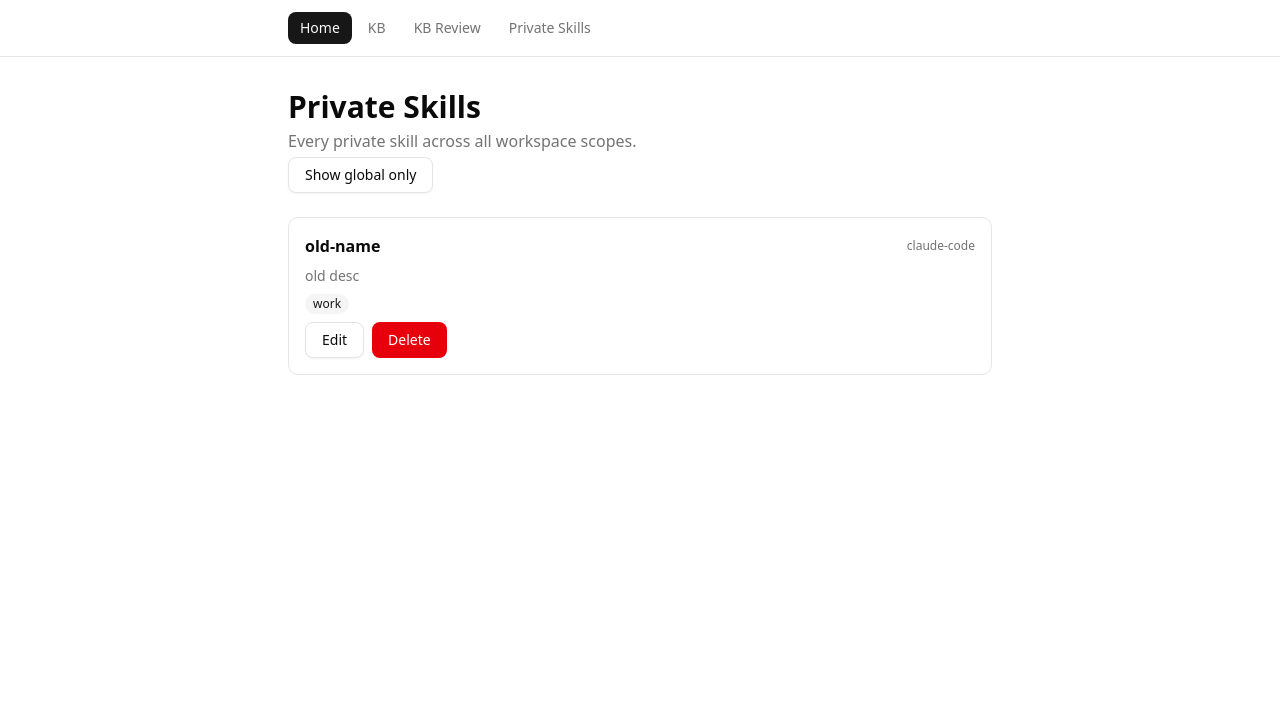
it: Private Skills browse page › reflects a skill's new title, description, and scopes on the card immediately after saving
Click the button "Edit" at point(335, 340), box [305,322,364,358]
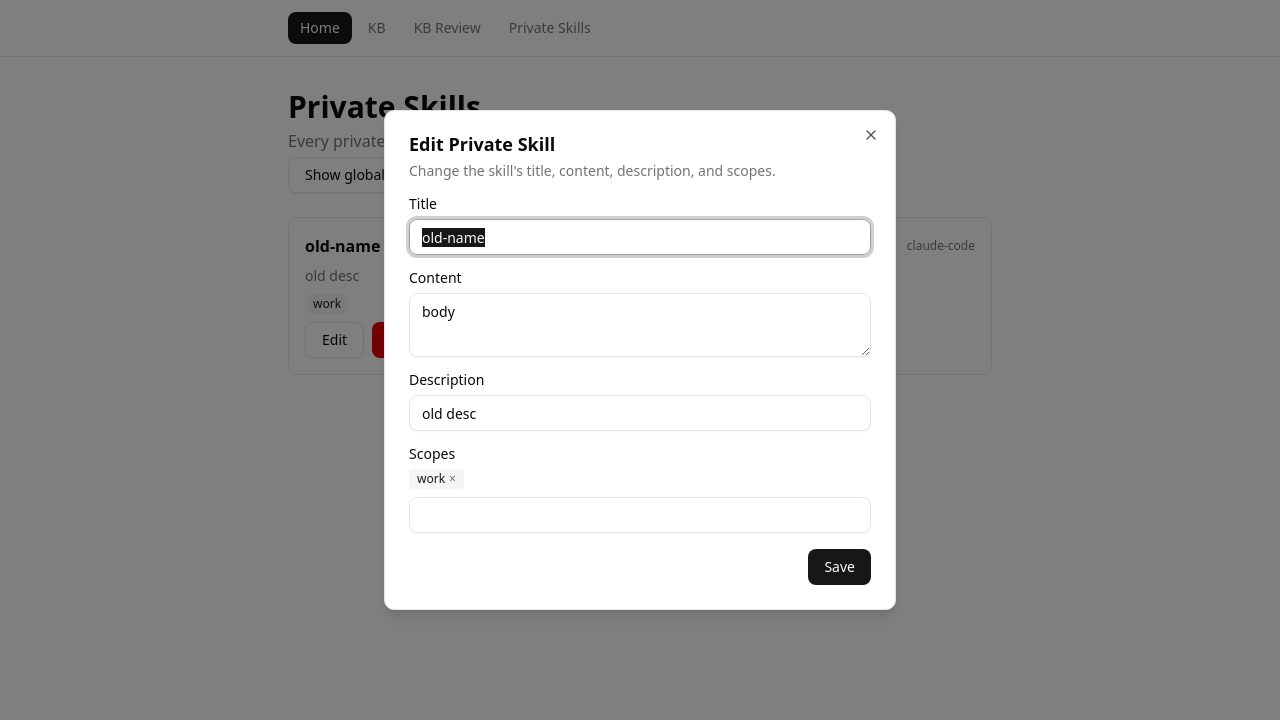
Replace the text in the field labelled "Title" with "new-name" at point(640, 237), box [409,219,871,255]
Replace the text in the field labelled "Description" with "new desc" at point(640, 413), box [409,395,871,431]
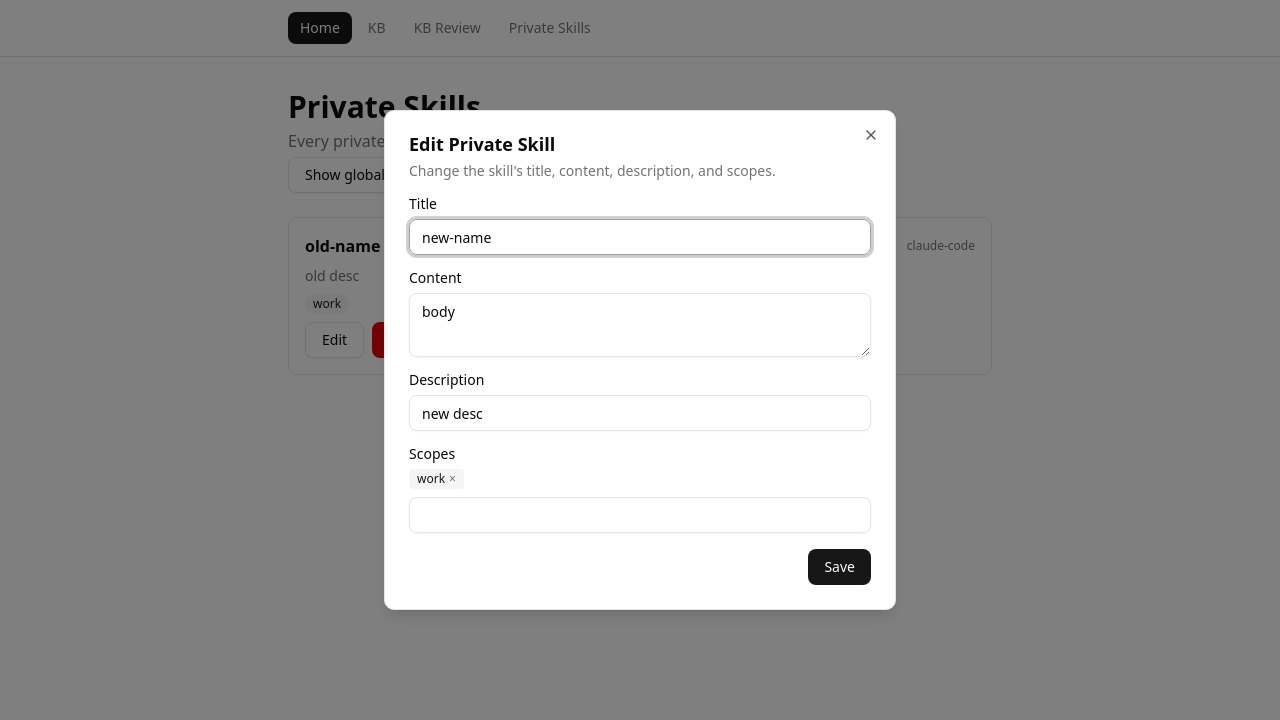
Type "client-x" into the field labelled "Scopes" at point(640, 515), box [409,497,871,533]
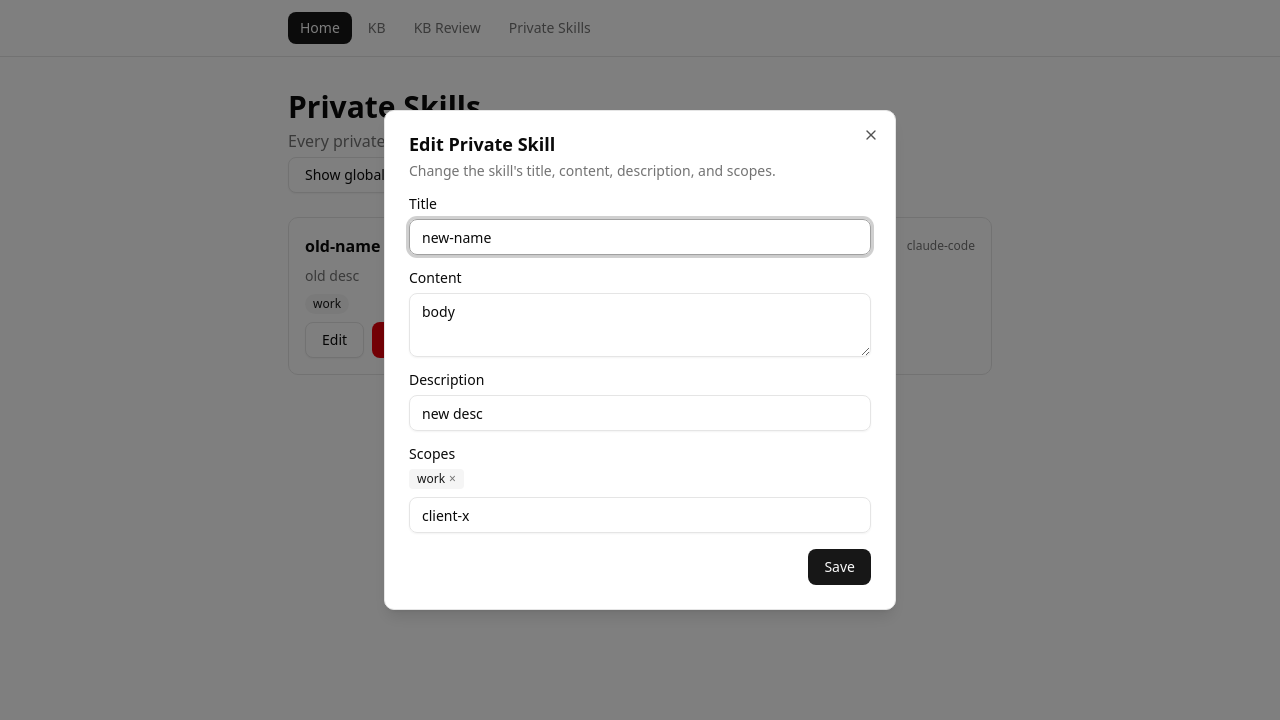
Press Enter in the field labelled "Scopes", box [409,497,871,533]
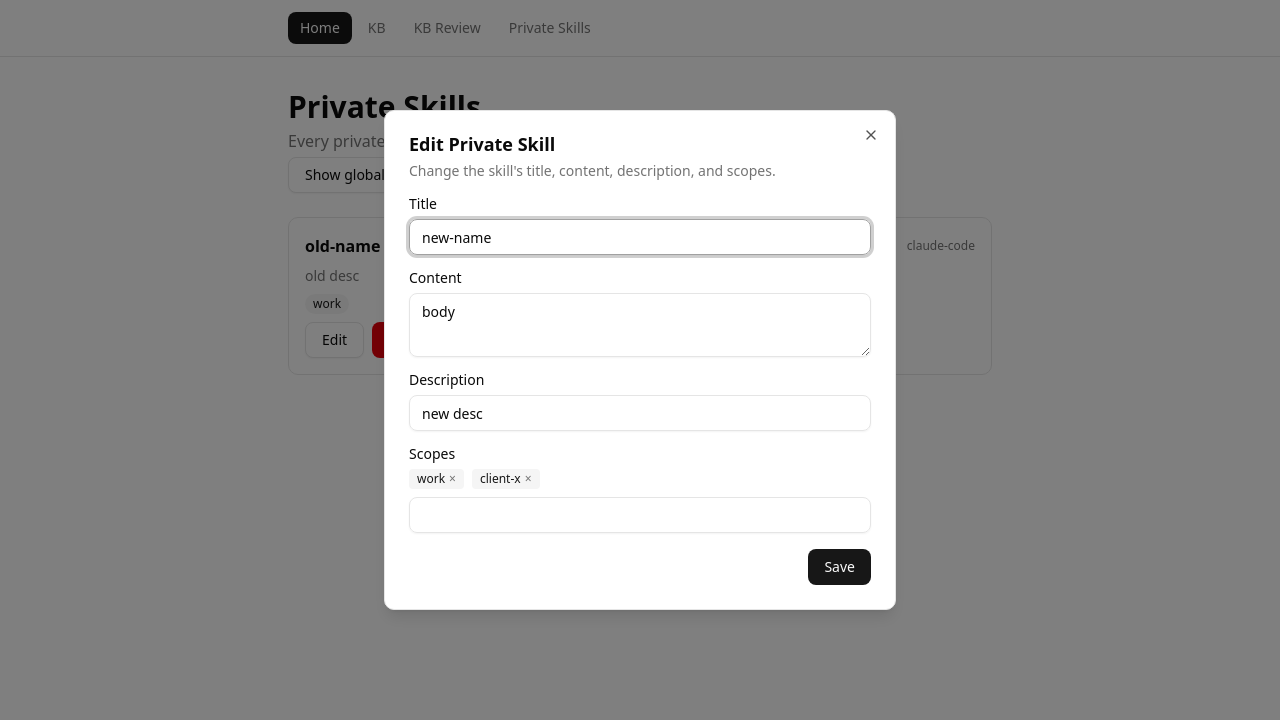
Click the button named "Remove work" at point(453, 479), box [449,471,456,487]
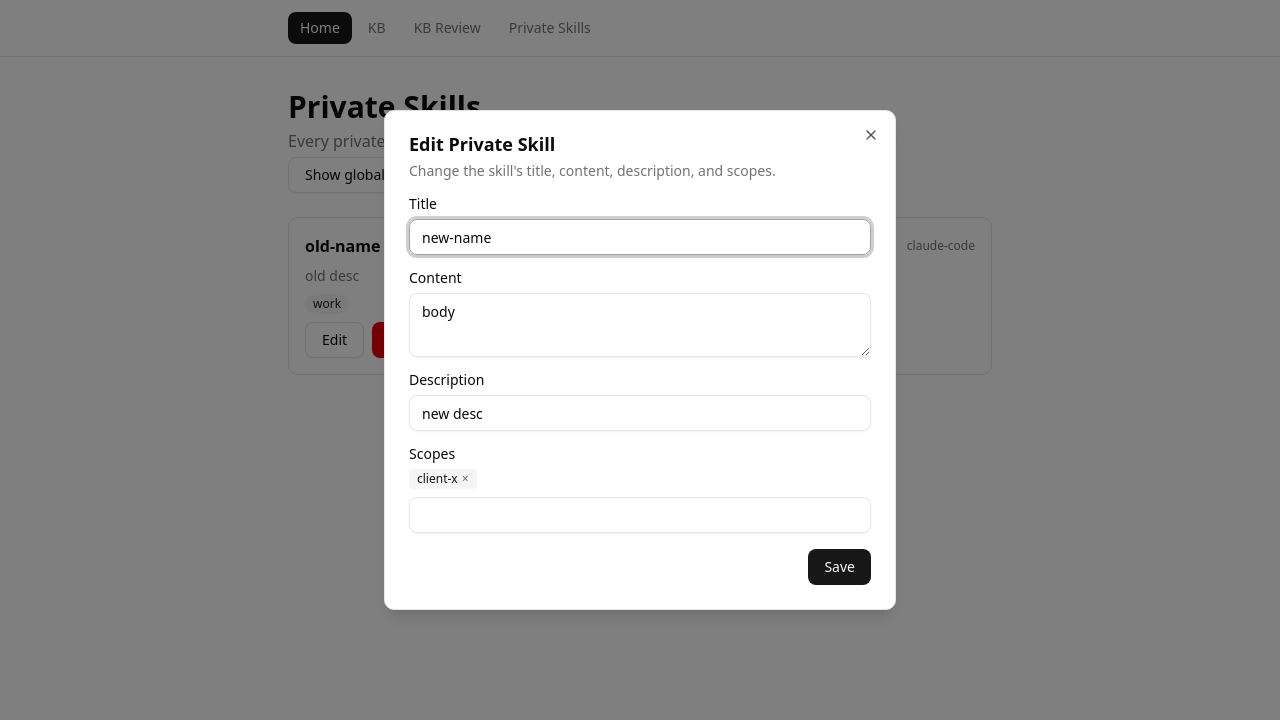
Click the button "Save" at point(840, 567), box [808,549,871,585]
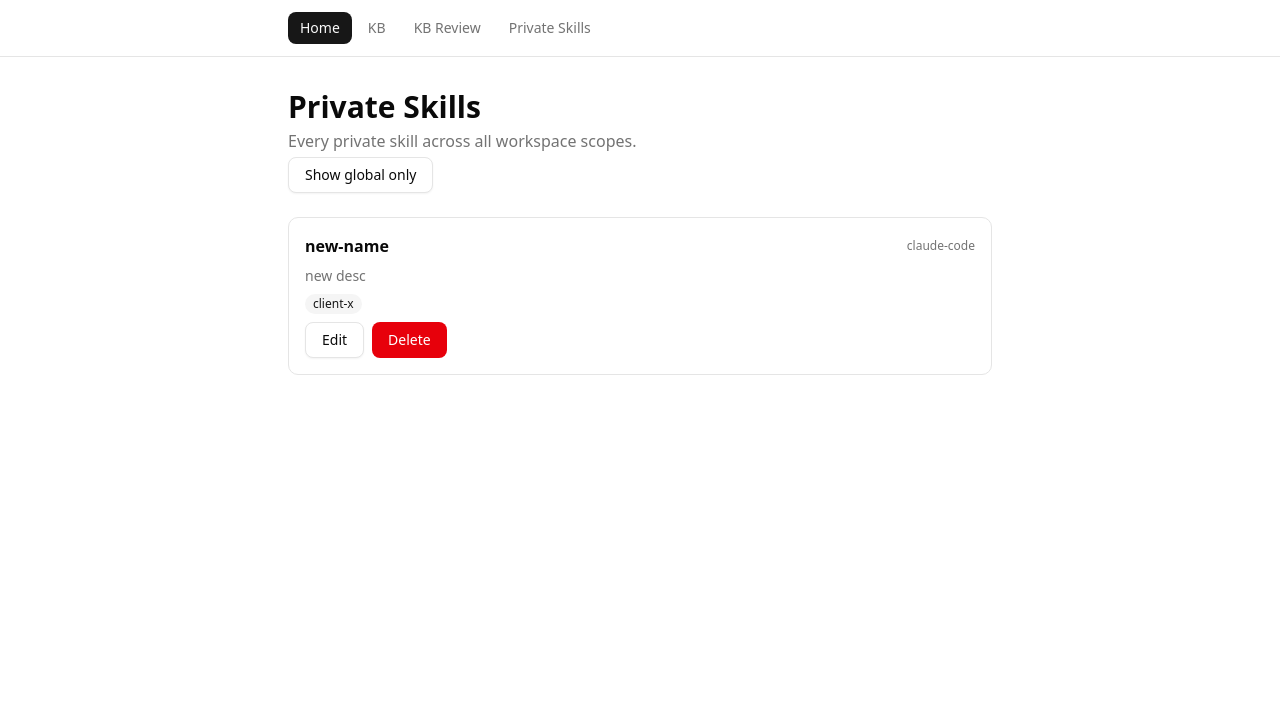
Expected: the heading "new-name" is shown, [305,234,389,258]
Expected: the text "new desc" is shown, [305,266,366,285]
Expected: the text "client-x" is shown, [305,294,362,314]
